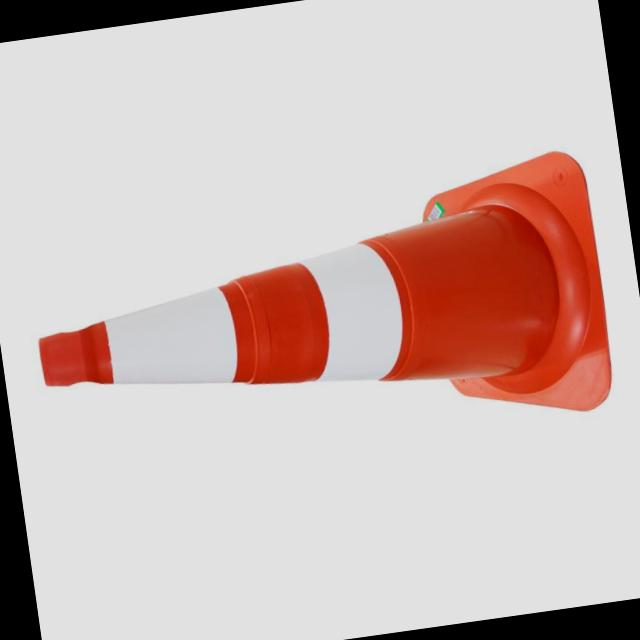cone: (22, 178, 606, 451)
